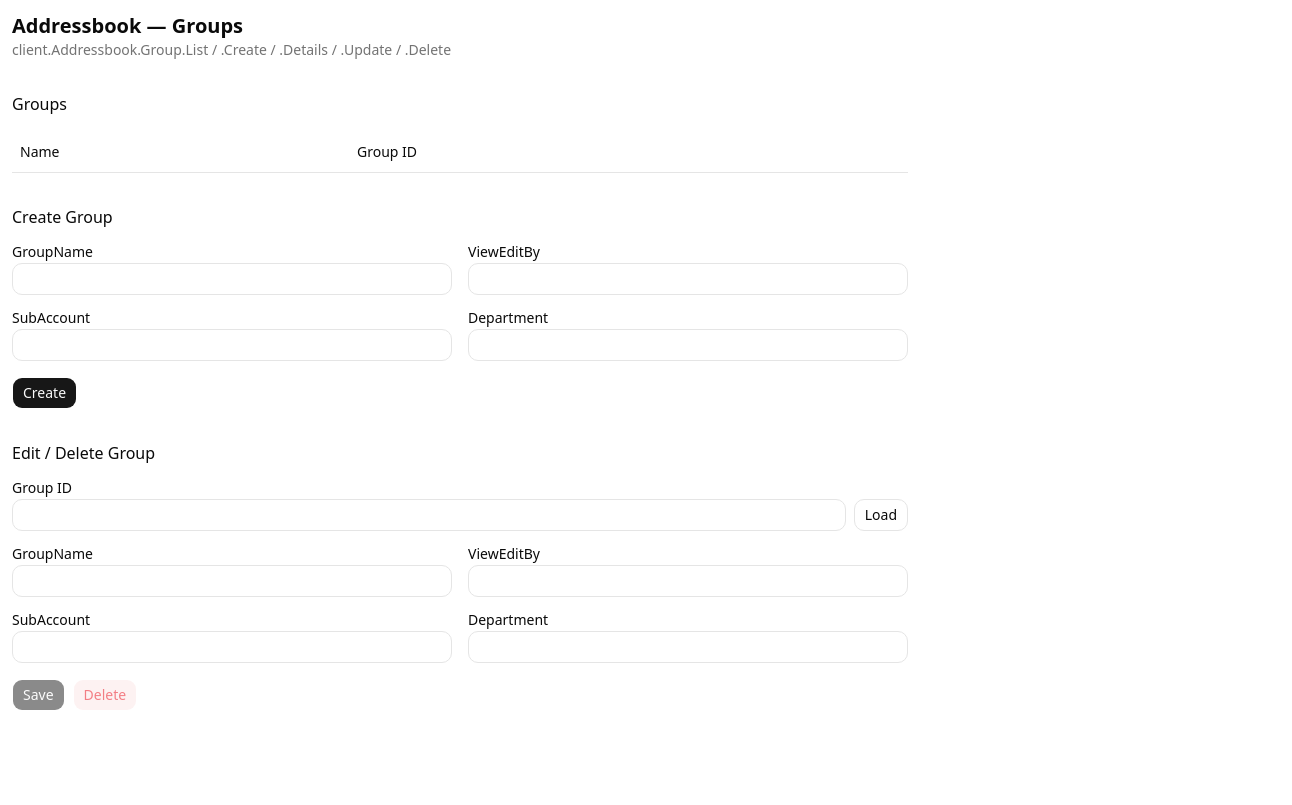
GroupsPage › Load fetches group details into the edit form, distinct from the Create form fields
Expected: the heading "Create Group" is shown, x1=12 y1=206 x2=113 y2=228
Type "g-1" into the field labelled "Group ID" at {"x": 429, "y": 514}, box x1=12 y1=498 x2=846 y2=530
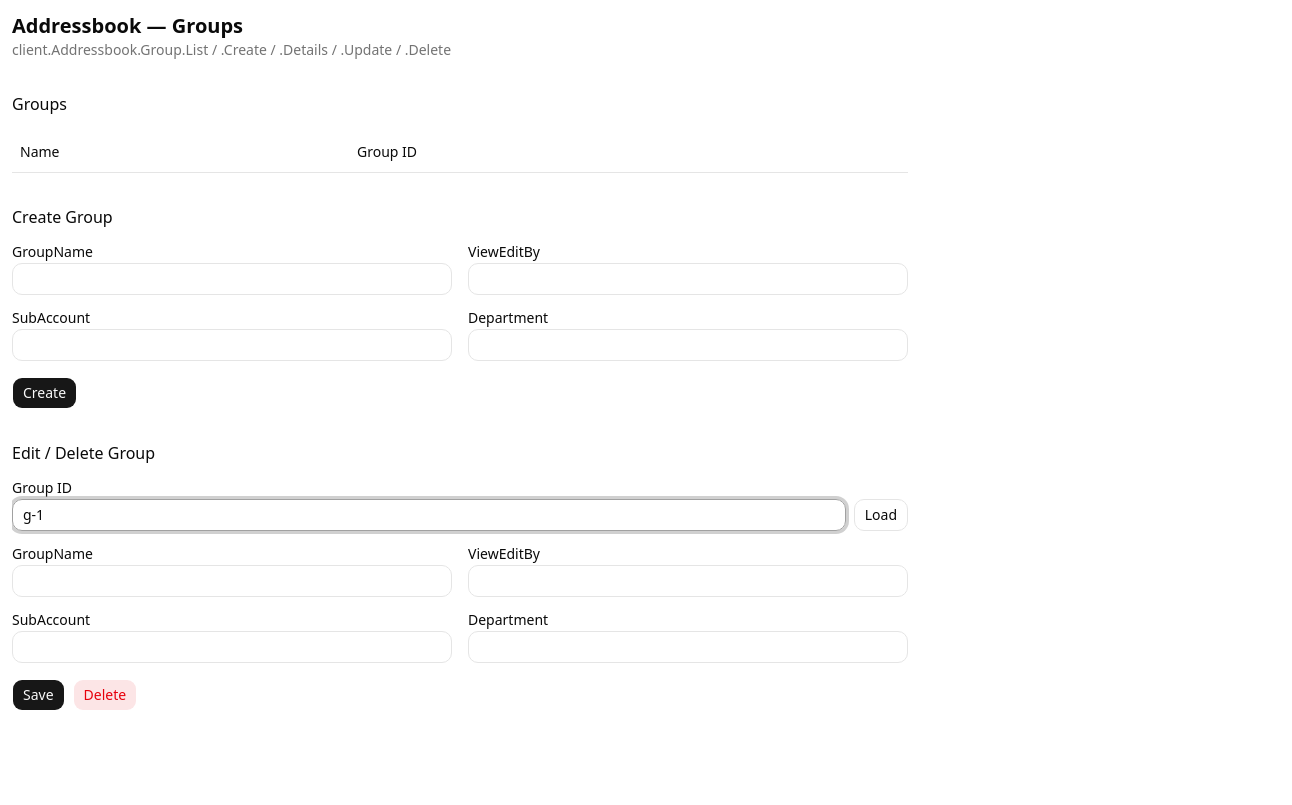
Click the button "Load" at {"x": 881, "y": 514}, box x1=854 y1=498 x2=908 y2=530
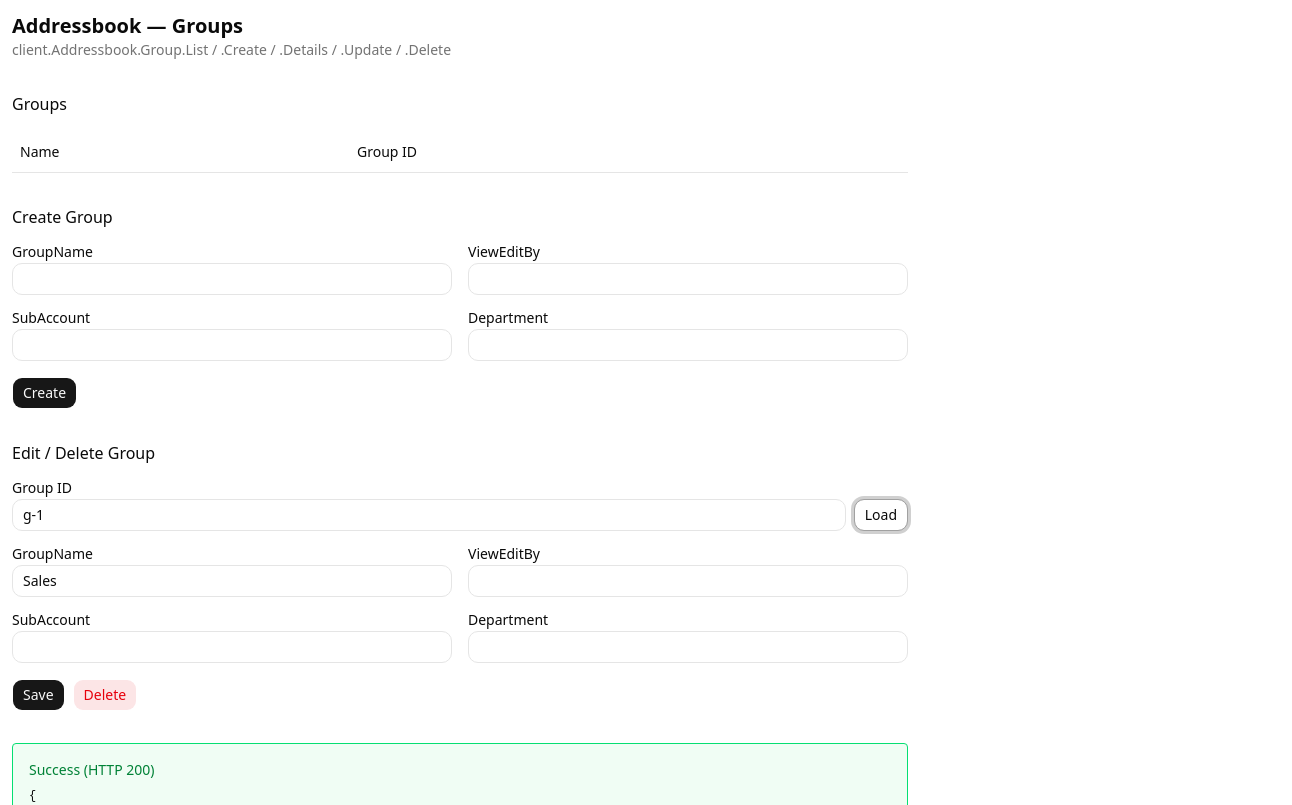
Expected: the field labelled "GroupName" below "Create Group" is empty, x1=12 y1=262 x2=452 y2=294
Expected: the field labelled "GroupName" below "Edit / Delete Group" holds "Sales", x1=12 y1=564 x2=452 y2=596
